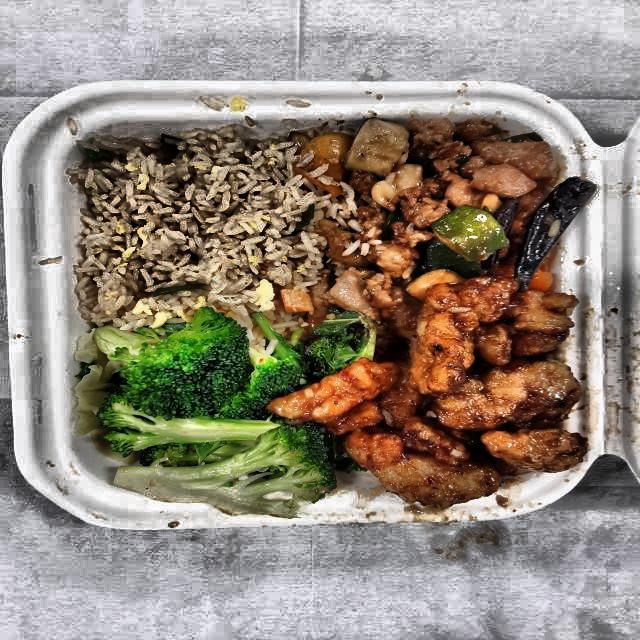Food: (300, 262, 609, 520), (60, 304, 356, 518), (62, 122, 345, 337), (312, 112, 588, 291)
